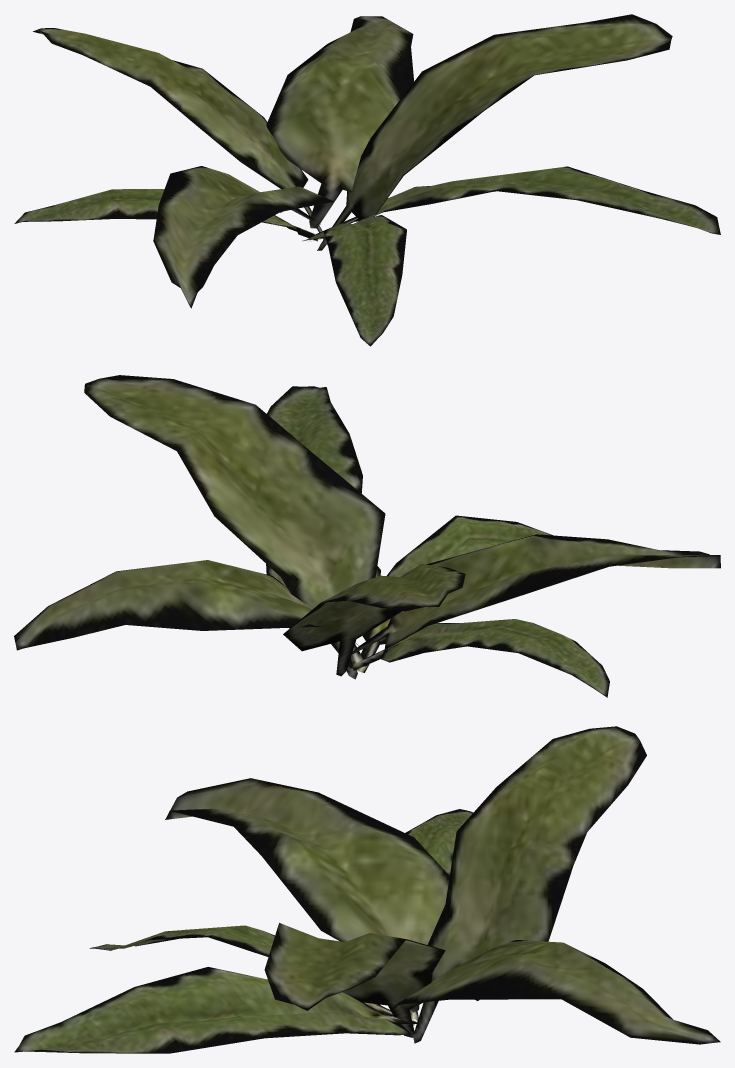
File: paper-rose.glb
3 views of the same model, one above another, from view 1: azimuth 30°, elevation 25°; view 2: azimuth 150°, elevation 25°; view 3: azimuth 270°, elevation 25° (orthographic). The views are drawn at different scales.
Visible parts, largest first — view 1: flower_gazania_a_LOD0; view 2: flower_gazania_a_LOD0; view 3: flower_gazania_a_LOD0.
Part boxes in pixels (left/top/right/bottom): flower_gazania_a_LOD0: left=14, top=14, right=720, bottom=346; flower_gazania_a_LOD0: left=14, top=375, right=720, bottom=697; flower_gazania_a_LOD0: left=14, top=726, right=720, bottom=1053.
Size of the model in its own units: 0.1382 by 0.0445 by 0.1333.
1 material, 1 textured.
